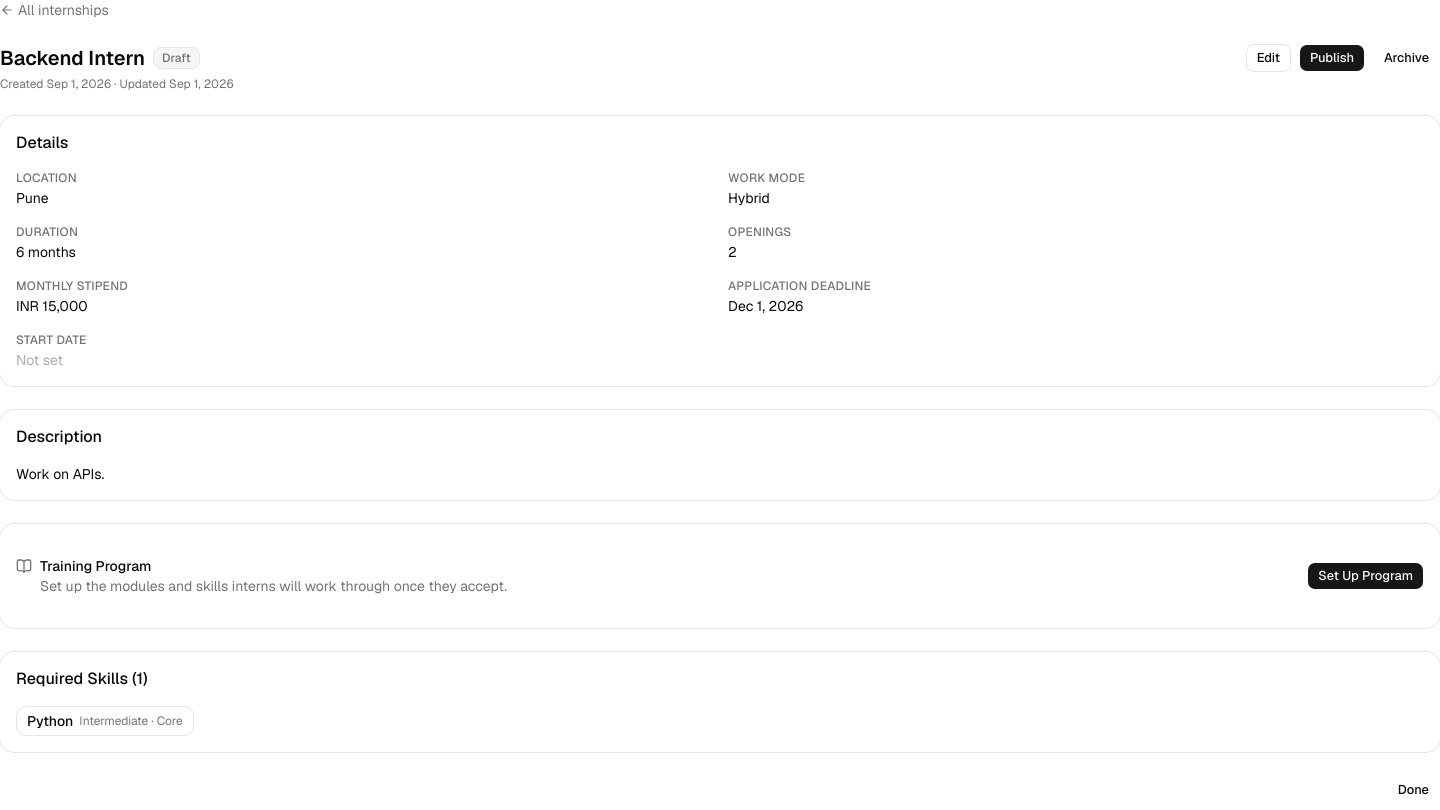
Test case: InternshipDetailView › publishes via the confirmation dialog
Expected: the heading "Backend Intern" is shown, [0,44,145,72]
Click the button "Publish" at (1332, 58), box [1299,44,1365,72]
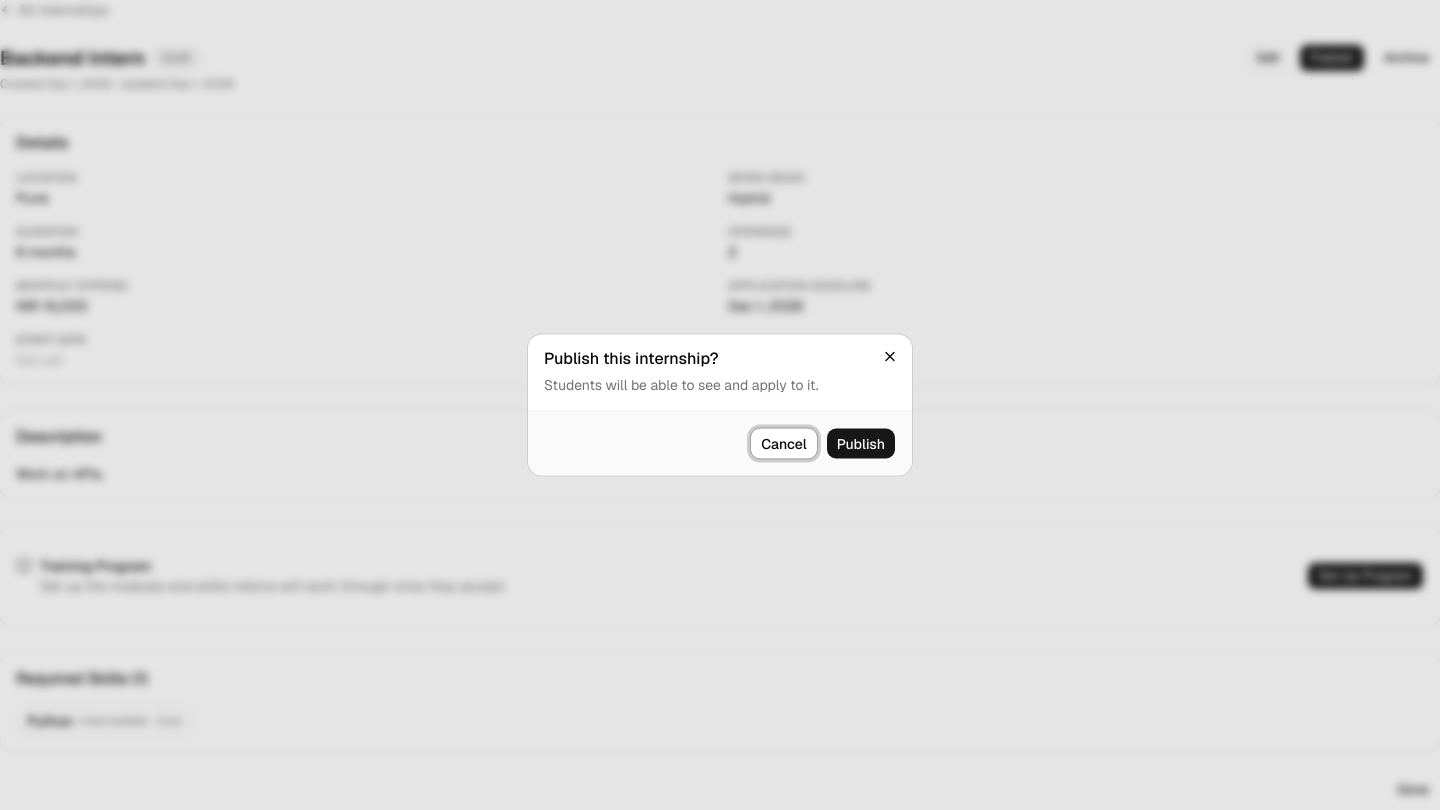
Click the button "Publish" at (861, 444), box [826,428,896,460]
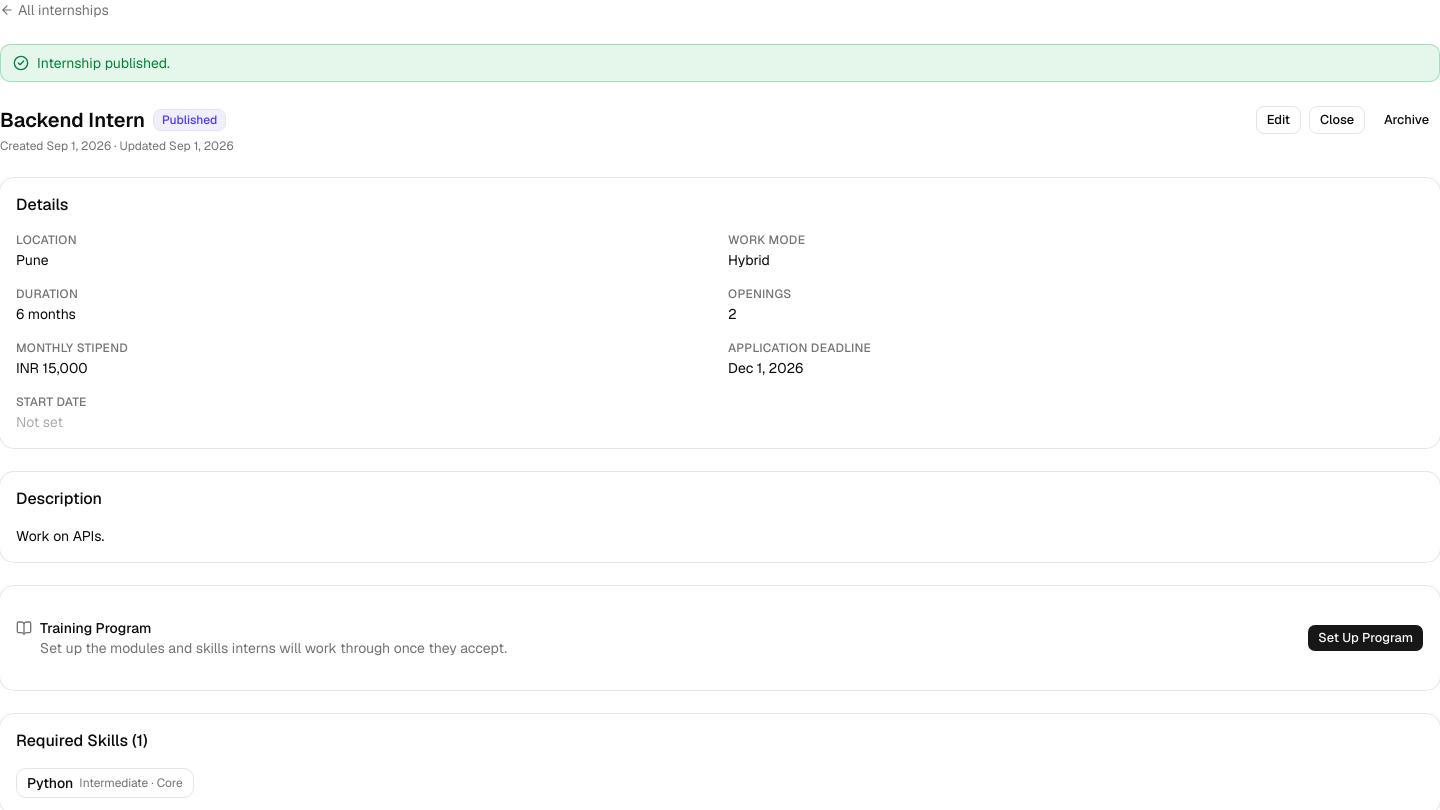
Result: the text "Internship published." is shown at [37,53,170,73]
Result: the text "Published" is shown at [153,109,226,131]
